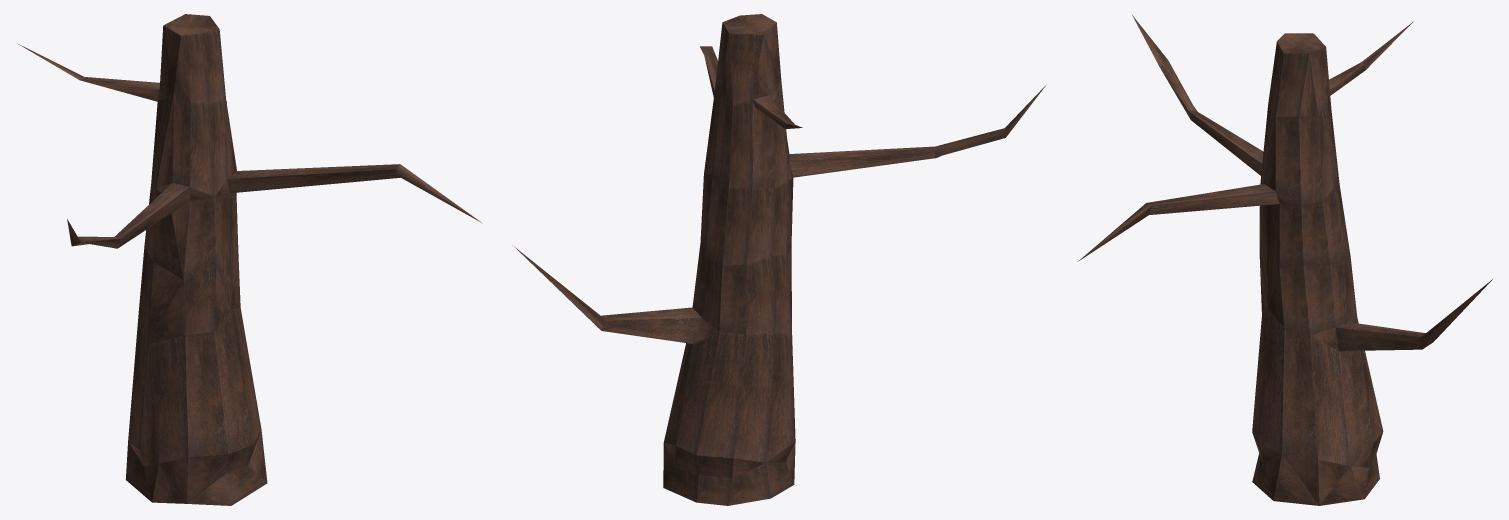
The model's file is deadTree.fbx.
The picture shows the model from 3 angles, left to right: view 1: azimuth 30°, elevation 25°; view 2: azimuth 150°, elevation 25°; view 3: azimuth 270°, elevation 25°; orthographic projection. The views are drawn at different scales.
Parts seen in each view (by area): view 1: Dead Tree; view 2: Dead Tree; view 3: Dead Tree.
Boxes of the visible parts, left/top/right/bottom form: Dead Tree: left=17, top=14, right=482, bottom=505; Dead Tree: left=512, top=14, right=1045, bottom=505; Dead Tree: left=1078, top=15, right=1492, bottom=505.
Bounding box in the file's own units: 438 × 504 × 440.
